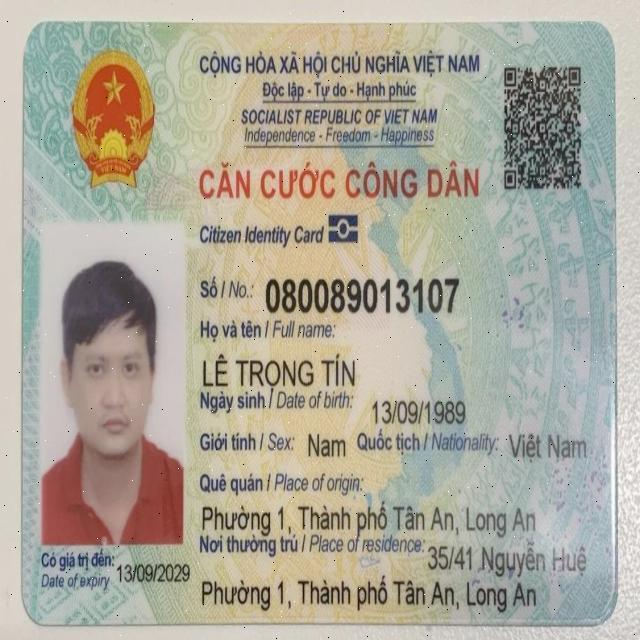current_place: (201, 567, 543, 620), (426, 534, 590, 578)
dob: (369, 396, 469, 428)
expire_date: (116, 559, 193, 587)
gender: (304, 426, 352, 464)
id: (262, 270, 462, 315)
name: (198, 349, 359, 394)
nationality: (505, 429, 588, 468)
origin_place: (198, 497, 540, 539)
